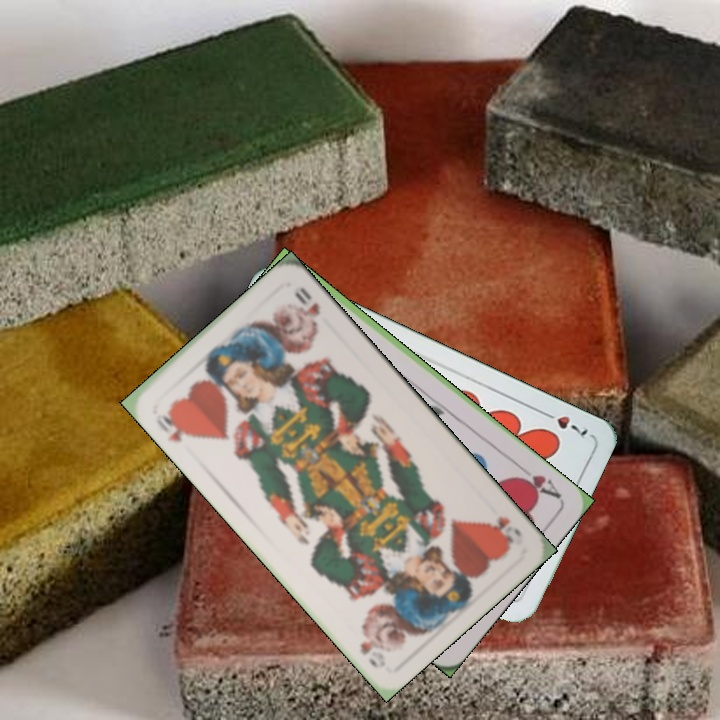H7: (537, 406, 591, 442)
HA: (512, 459, 564, 502)
HO: (152, 406, 196, 445), (484, 511, 525, 551)
